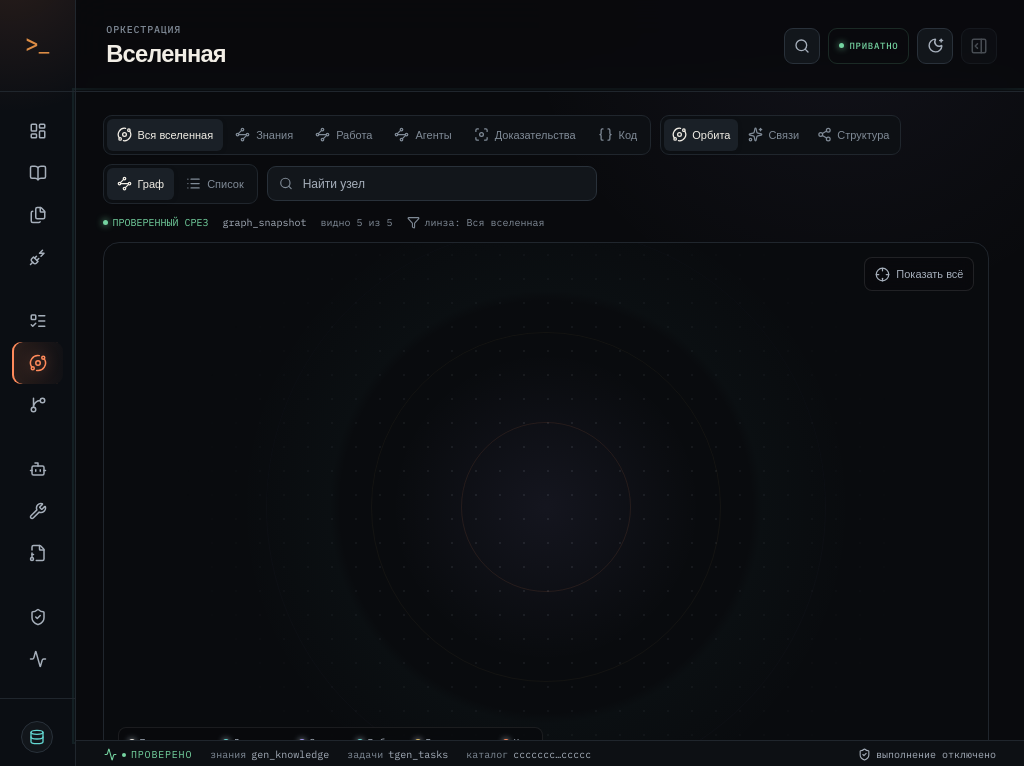
raytsystem control plane › renders the building code-graph state and blocks traversal
What coordinates should you click on to do the following:
click the button "Код"
I would click on:
 (617, 135)
Its box is [588,119,647,151].
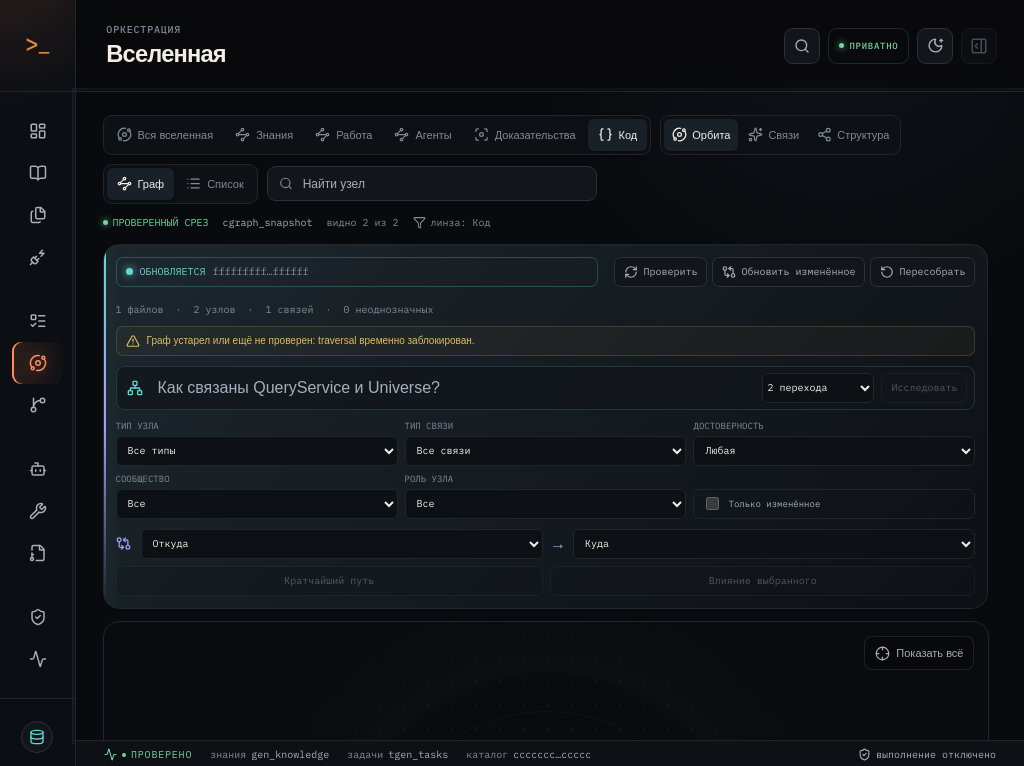
Expected: the text "Обновляется" is shown, [140,265,206,278]
Expected: the button "Исследовать" is disabled, [882,373,968,403]
